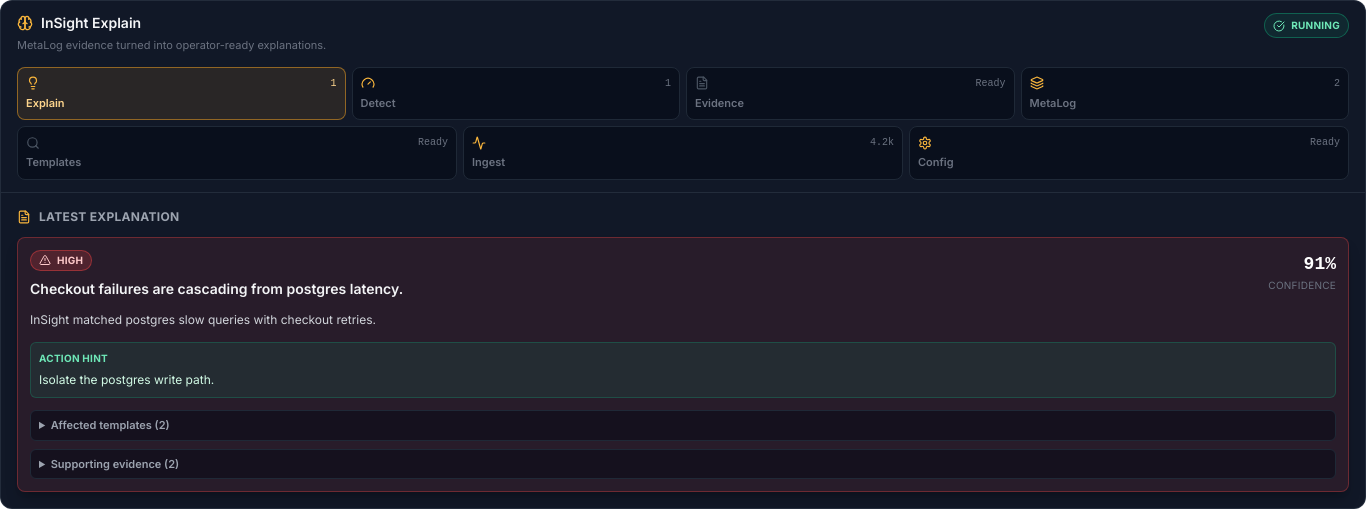
Test: InsightPanel › switches to the template capability view
The image size is (1366, 526).
Click the tab "Ready Templates".
click(433, 143)  # box [17,126,457,180]
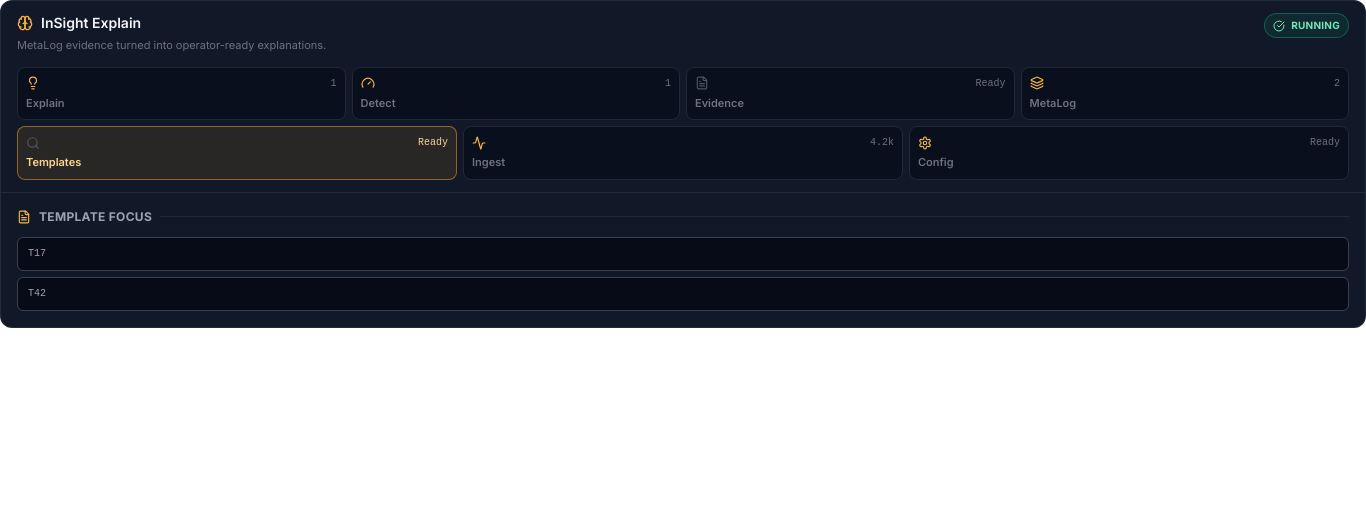
Expected: the heading "Template focus" is shown, [39,209,152,225]
Expected: the text "T17" is shown, [28,248,46,259]
Expected: the text "T42" is shown, [28,288,46,299]
